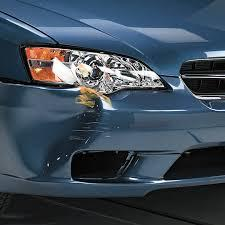Bumper: (2, 78, 170, 171)
